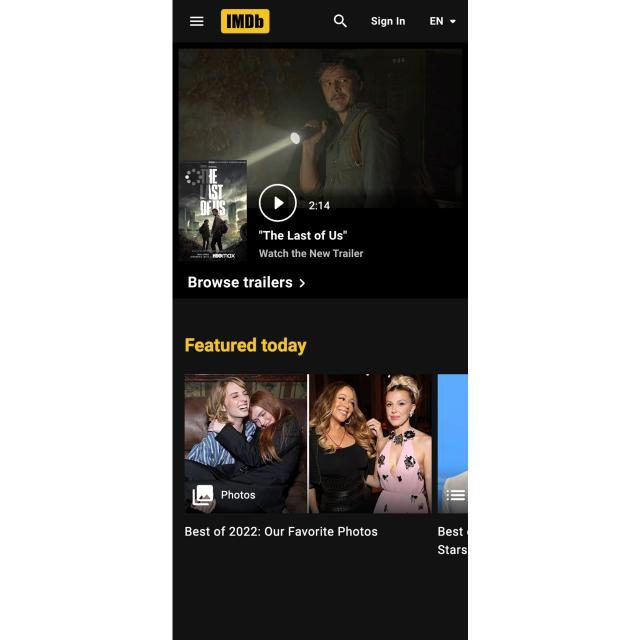logo: (222, 8, 270, 34)
navigation: (188, 13, 206, 29)
